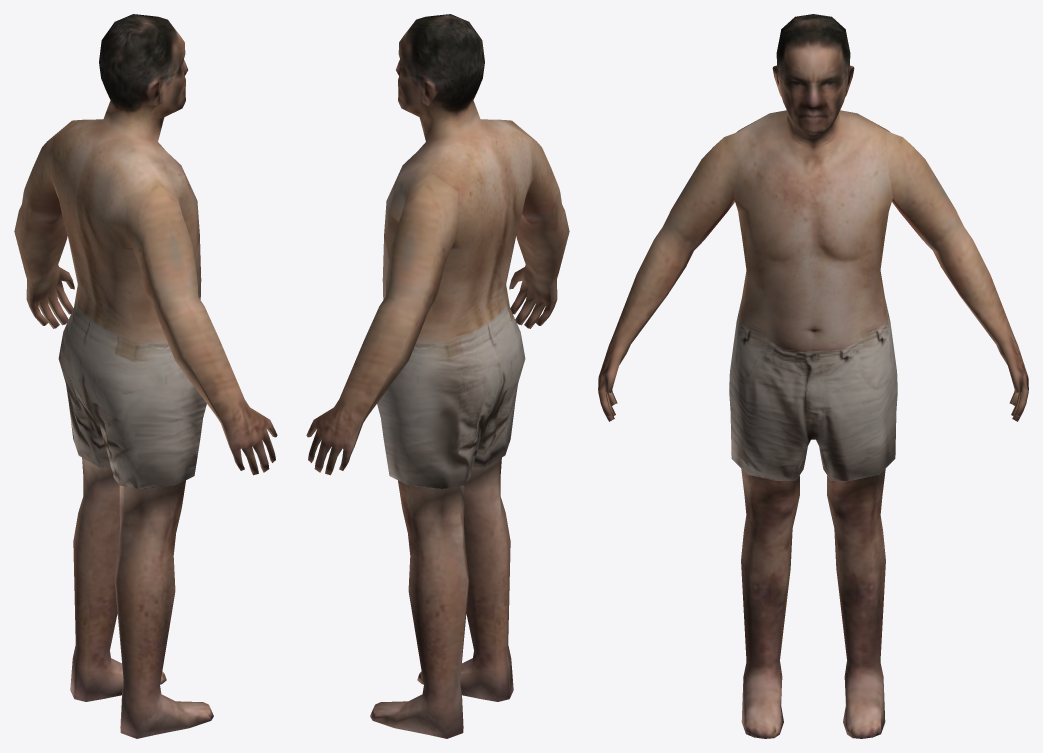
The model's file is Character_Male_56.fbx.
The picture shows the model from 3 angles, left to right: view 1: azimuth 30°, elevation 25°; view 2: azimuth 150°, elevation 25°; view 3: azimuth 270°, elevation 25°; orthographic projection.
Parts seen in each view (by area): view 1: Character_Male_56; view 2: Character_Male_56; view 3: Character_Male_56.
Boxes of the visible parts, x1,y1,x2,y2 form: Character_Male_56: (14,14,277,738); Character_Male_56: (306,14,569,738); Character_Male_56: (598,14,1028,738).
Size of the model in its own units: 0.2911 by 1.69 by 0.9457.
